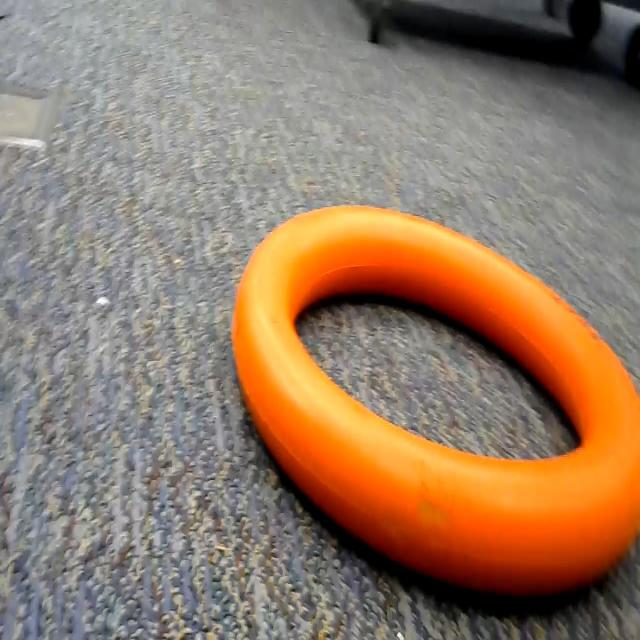note: (230, 194, 640, 639)
